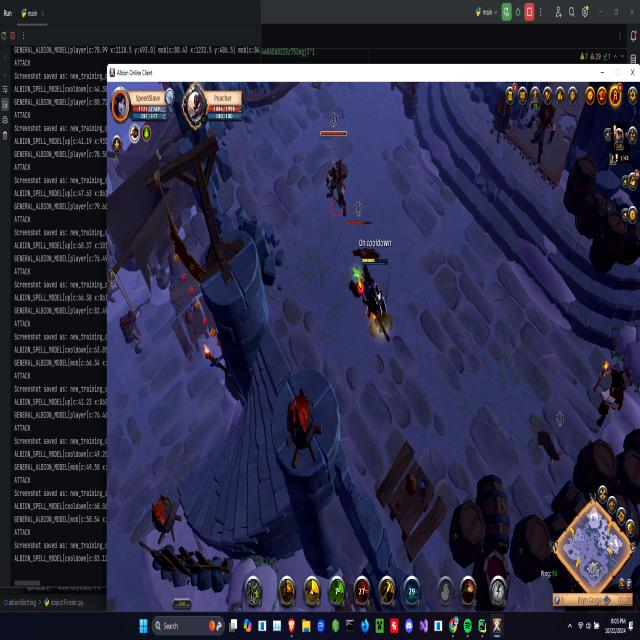ore: (344, 199, 378, 325), (514, 396, 568, 473), (591, 348, 634, 431), (320, 110, 350, 221), (524, 99, 557, 169)
red: (359, 252, 390, 329)
